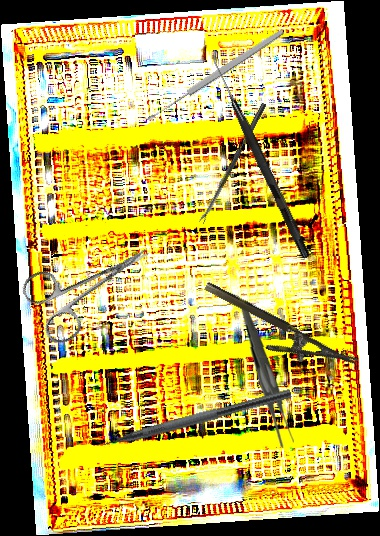Chopper: (81, 375, 293, 457)
Dressing Forceps: (238, 302, 297, 449)
Hook Surgical: (207, 59, 314, 260)
Iris Scissors: (17, 220, 168, 350)
Needle Holder: (193, 279, 359, 390)
Surgical Spoon: (144, 27, 286, 124), (198, 101, 267, 225)
